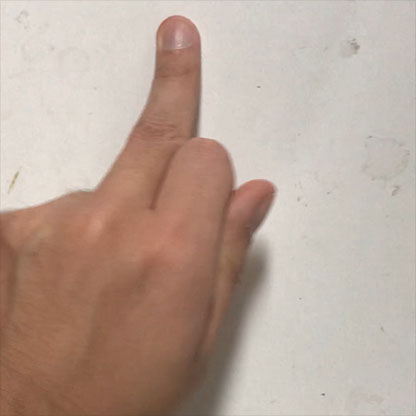fingertip: (146, 5, 216, 58)
